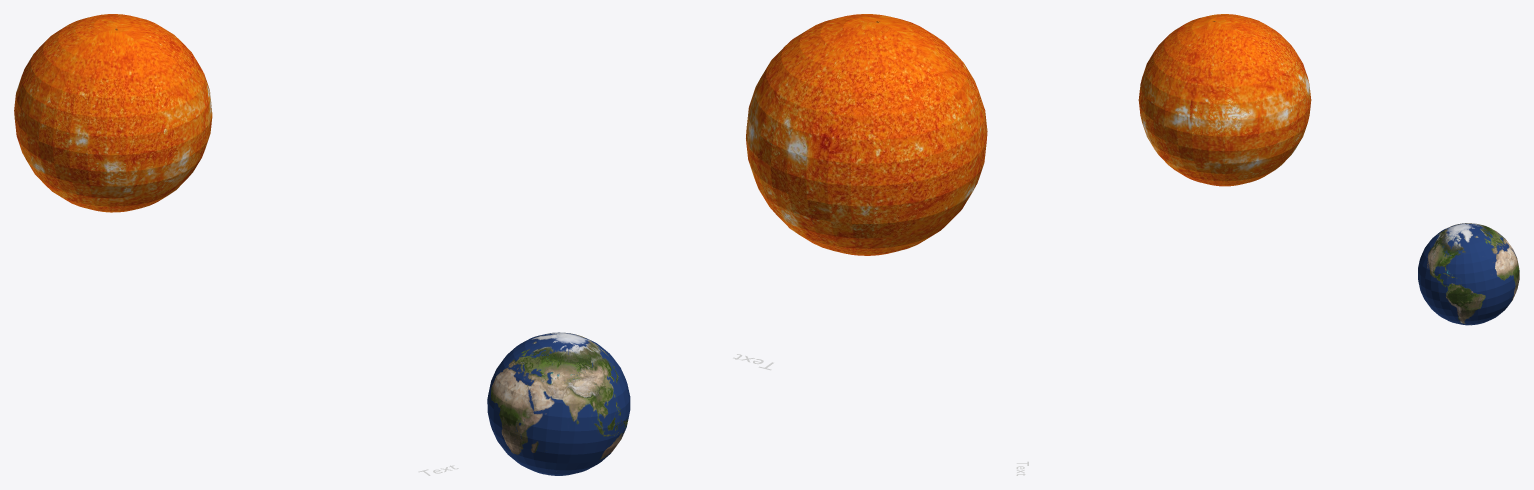
The model's file is green house.gltf.
3 views of the same model, side by side, from view 1: azimuth 30°, elevation 25°; view 2: azimuth 150°, elevation 25°; view 3: azimuth 270°, elevation 25° (orthographic). The views are drawn at different scales.
Parts seen in each view (by area): view 1: Sphere.001; view 2: Sphere.001, Sphere; view 3: Sphere.001, Sphere.
Part boxes in pixels (<box>): Sphere.001: <box>14,14,212,212</box>; Sphere.001: <box>746,14,987,255</box>; Sphere: <box>487,332,630,475</box>; Sphere.001: <box>1138,14,1311,186</box>; Sphere: <box>1418,223,1519,325</box>.
Bounding box in the file's own units: 17.3 × 21.88 × 27.85.
Materials: 2 (2 with a texture image).
